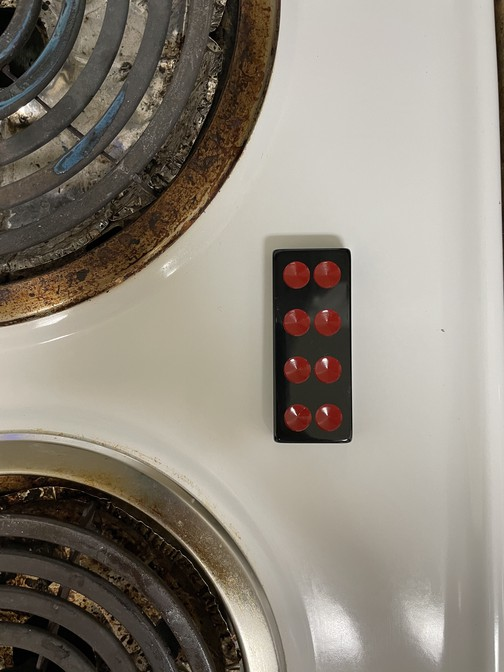man: (273, 248, 354, 444)
